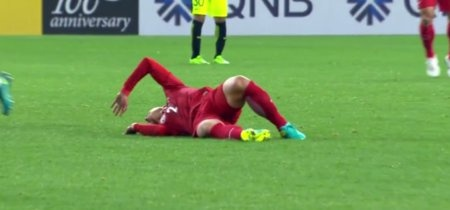falling: (109, 46, 306, 145)
